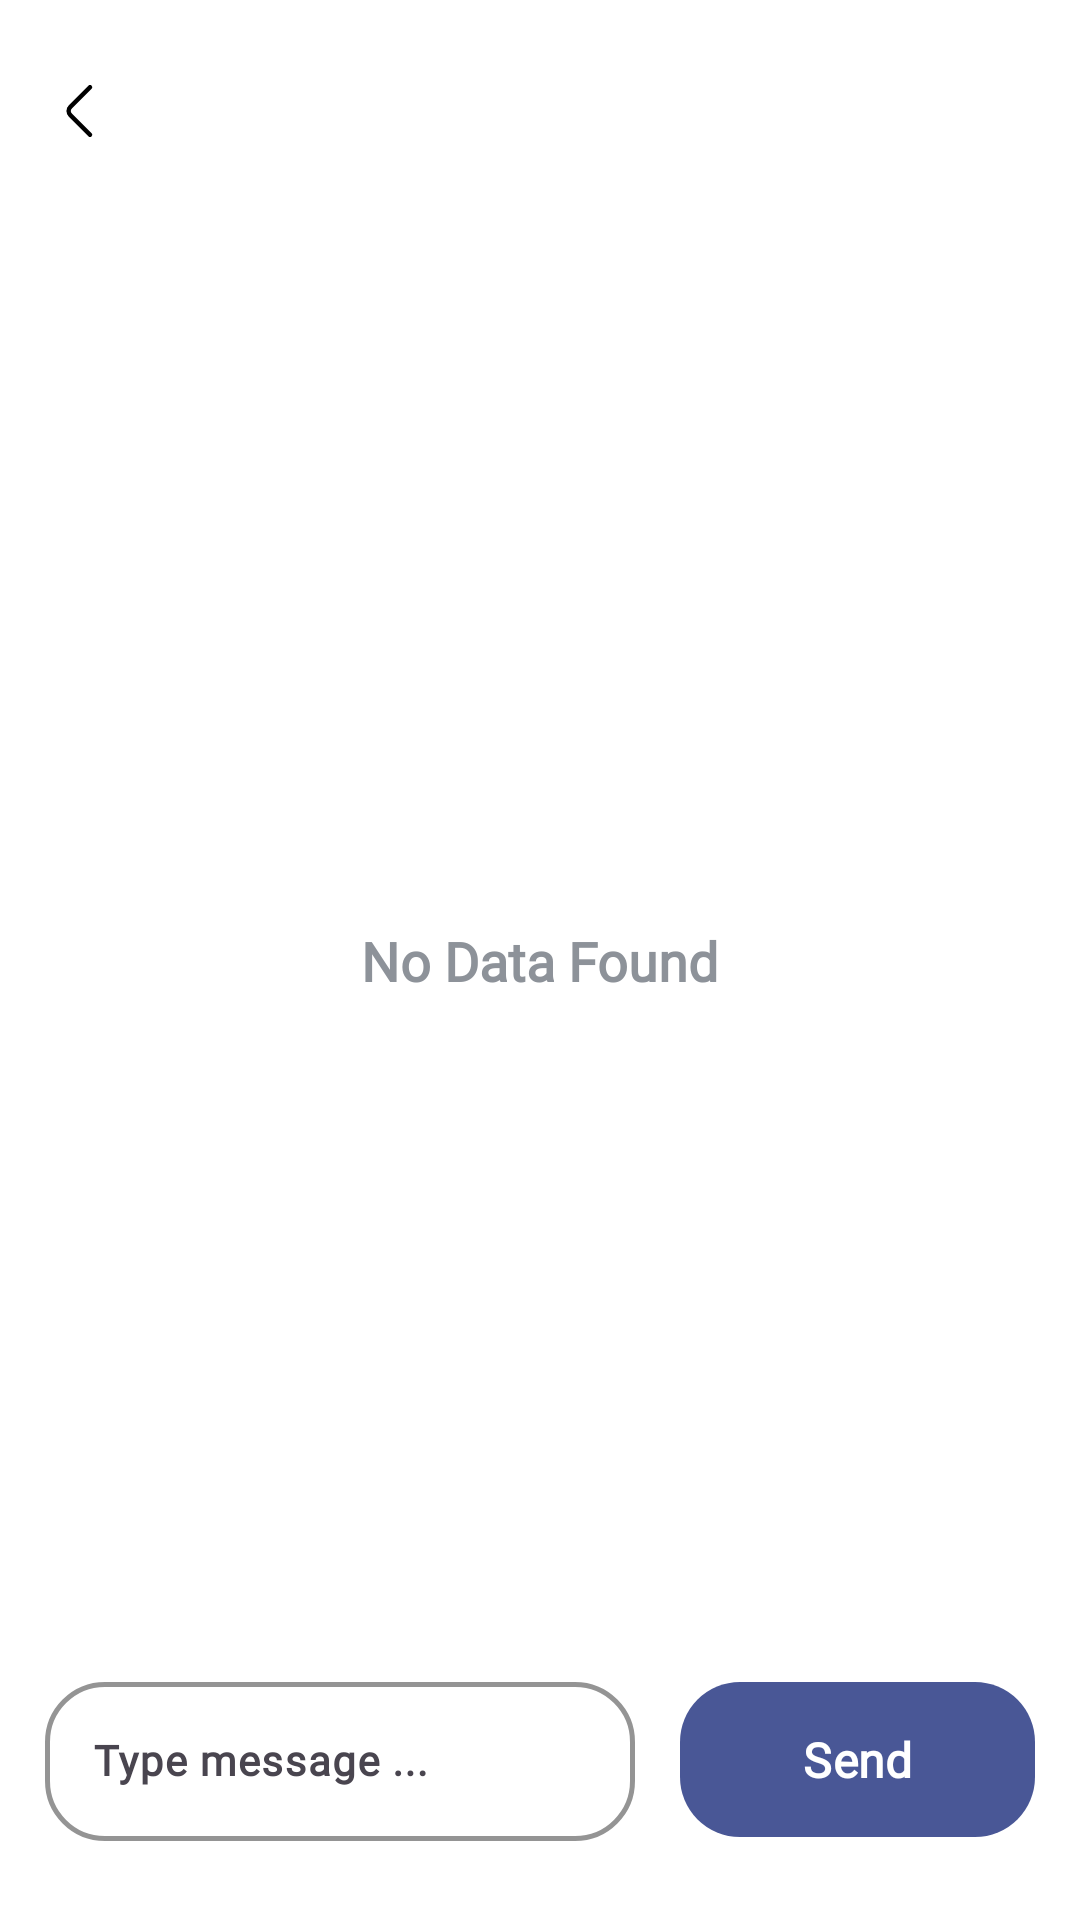

Icons on this 1080 × 1920 Android screen, each with its box as (left=x1, top=y1, right=x2, bottom=y2):
arrow back: (left=66, top=85, right=93, bottom=137)
